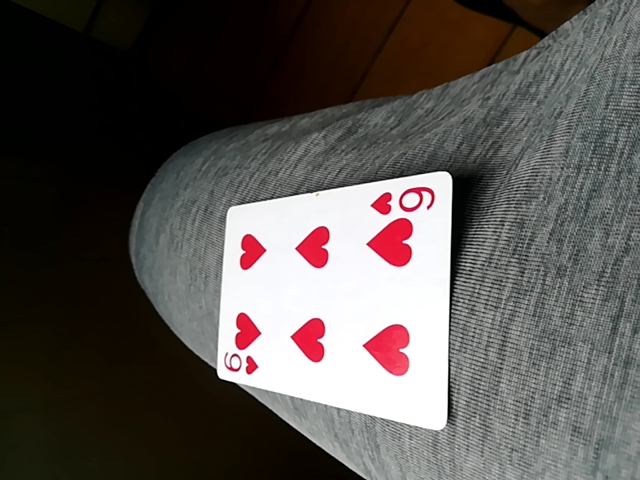hx 6: (214, 169, 455, 433)
